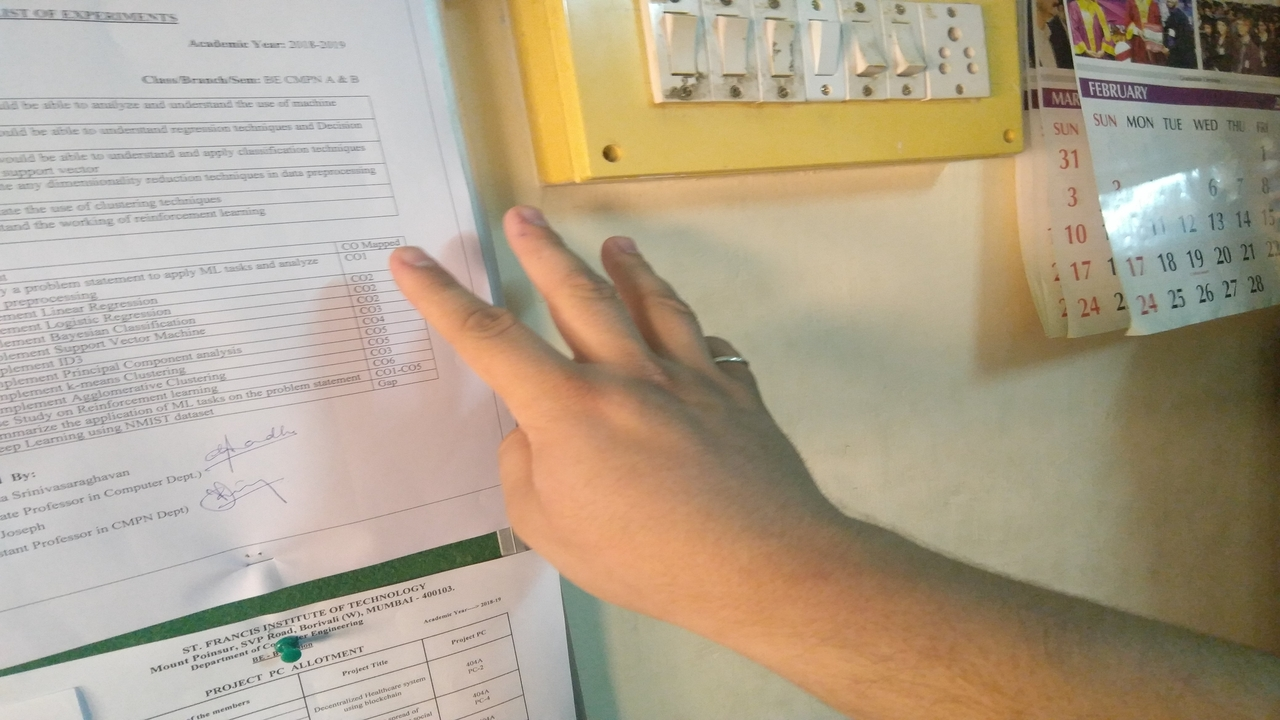fingertip: (378, 236, 438, 286), (594, 226, 652, 270), (494, 198, 548, 244)
